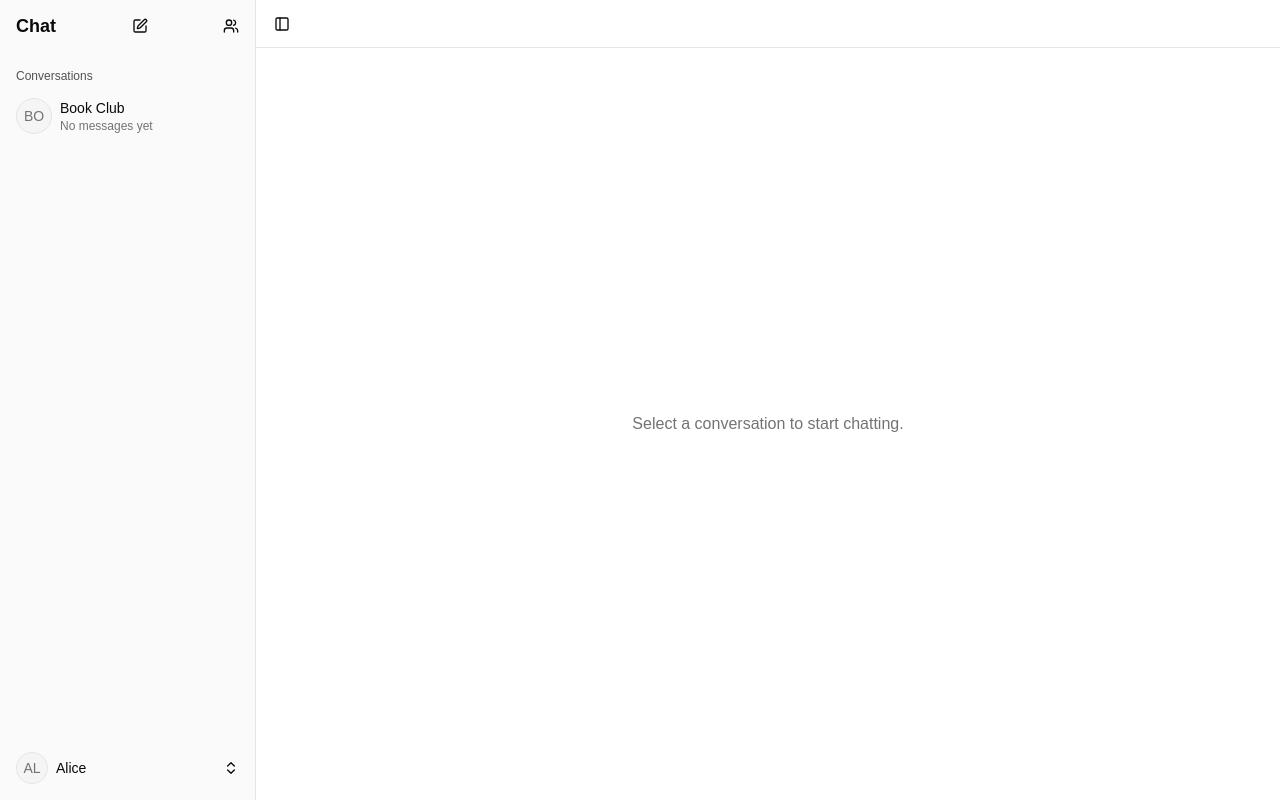
Test: Group details › shows a Member who is not the Owner no way to manage Members
The image size is (1280, 800).
Click the button "BO Book Club No messages yet". click: [128, 116]
box: [8, 92, 247, 140]
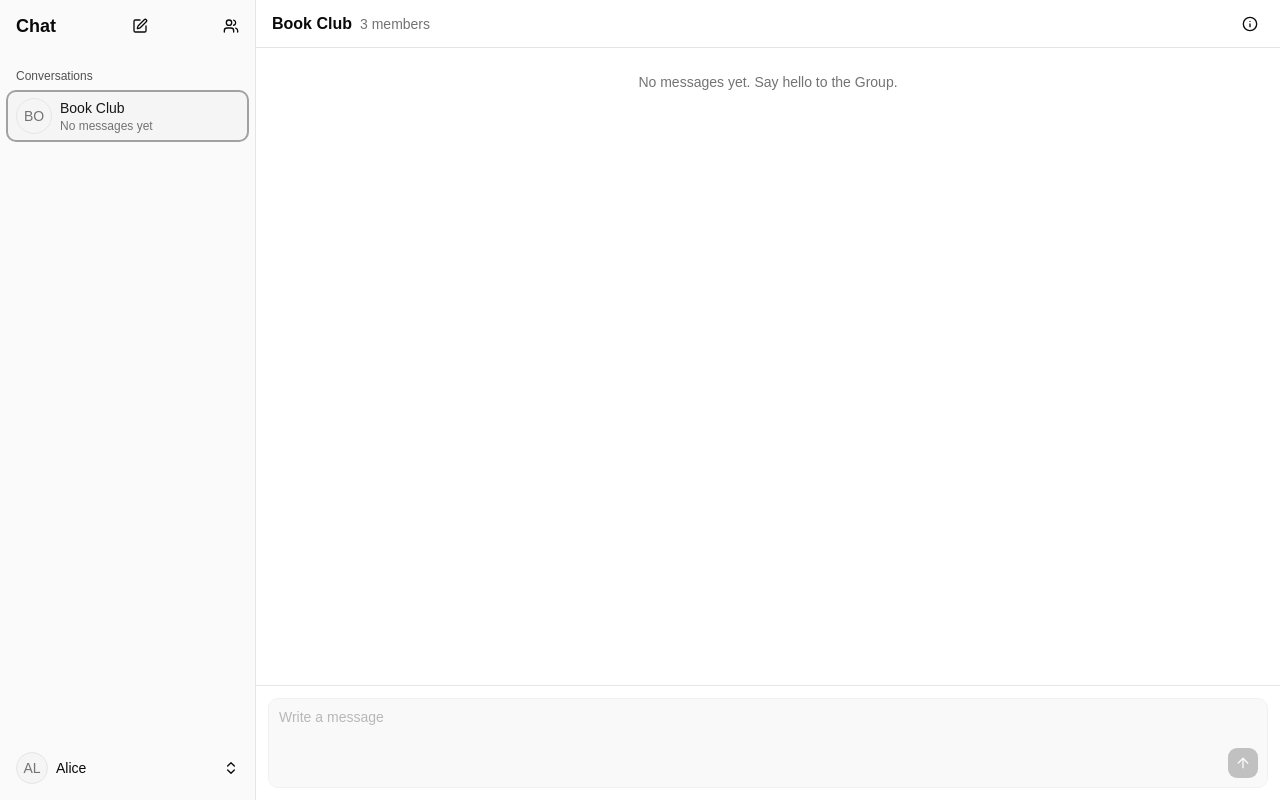
Click the button named "group details". click: [1250, 24]
box: [1236, 10, 1264, 38]
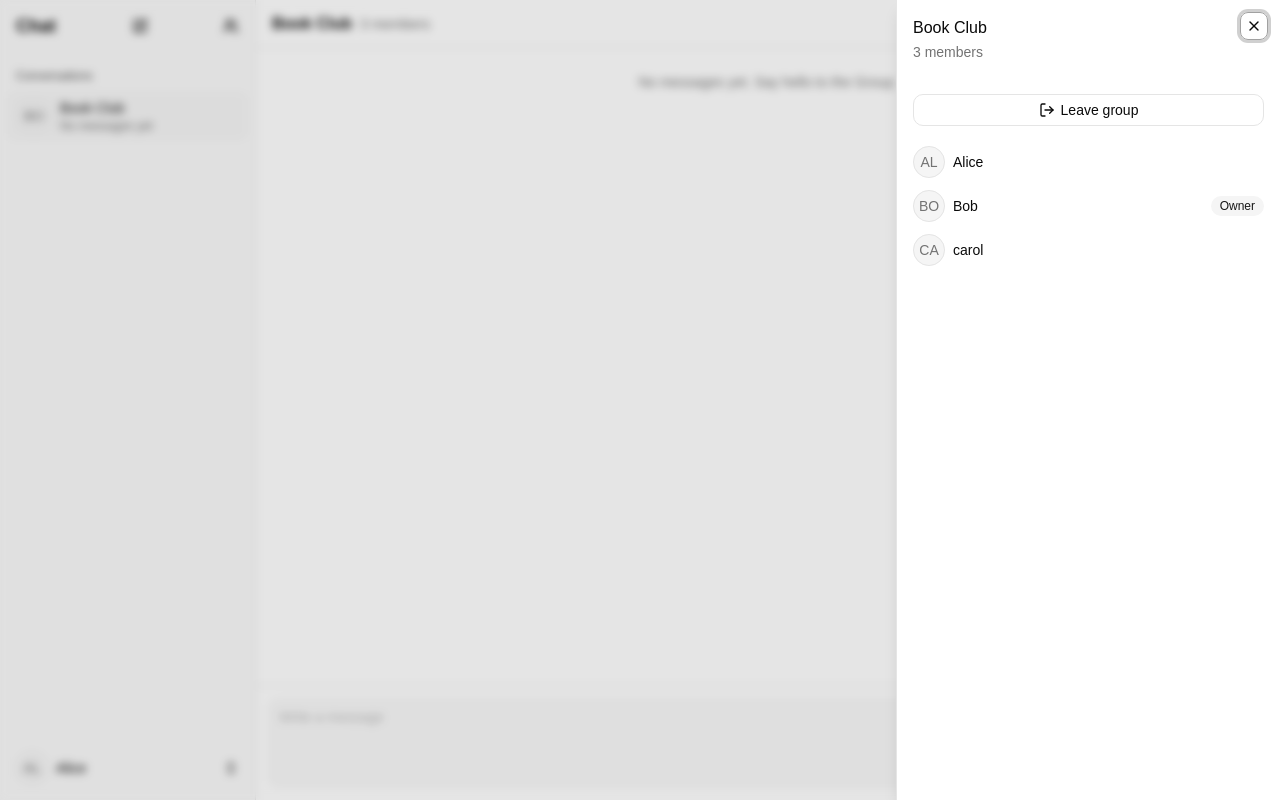
Result: the text "carol" is shown at [953, 242, 983, 258]
Result: the icon "Owner" is shown at [1211, 196, 1264, 216]
